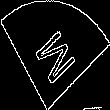M_SW: (30, 21, 80, 89)
